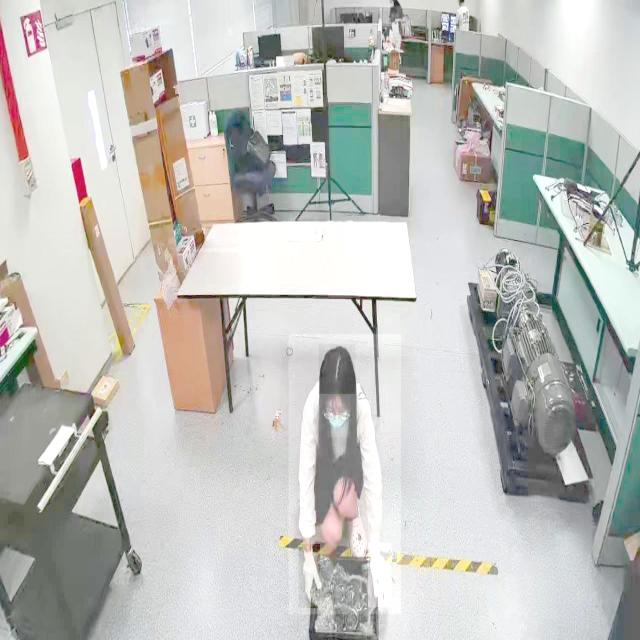face_mask: (328, 396, 350, 438)
hand_glove: (368, 543, 392, 608), (298, 544, 320, 609)
head_nohelmet: (318, 344, 356, 395)
person: (288, 334, 402, 615)
